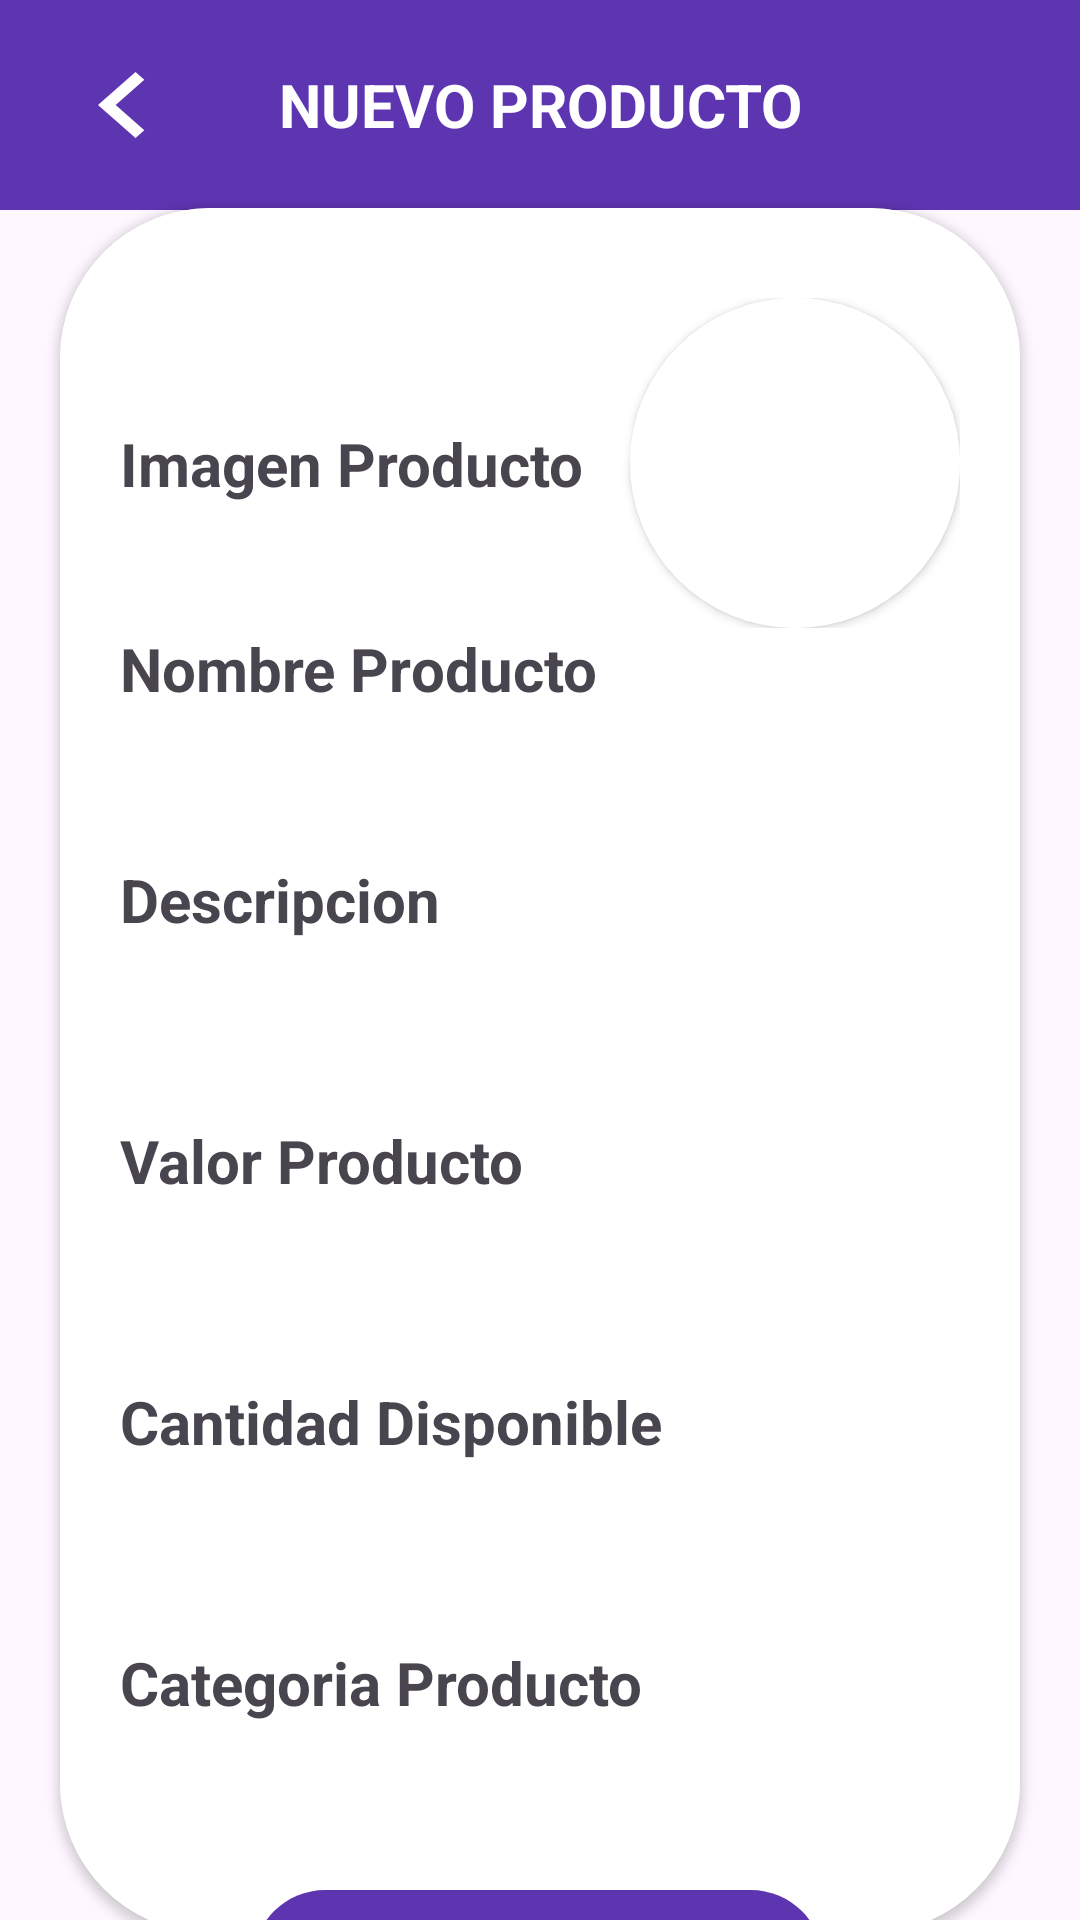

Point at icon controls on the screen. Image size 1080px x 1920px, points as (x=x, y=y).
back: (x=121, y=105)
